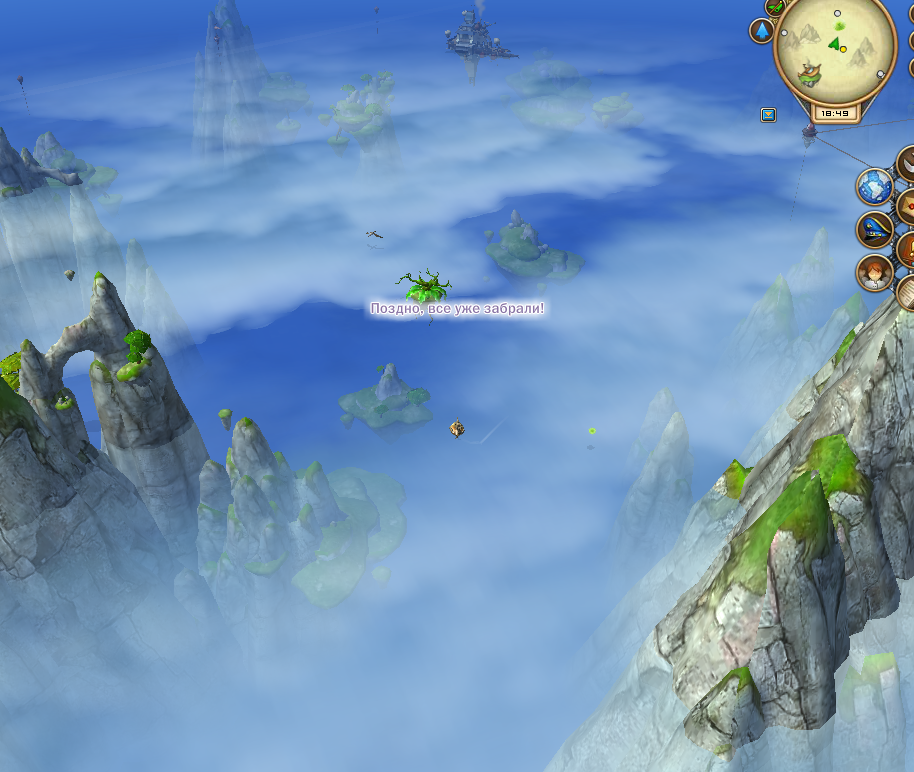dandelion-empty: (395, 260, 447, 307)
fluff: (585, 424, 599, 438)
